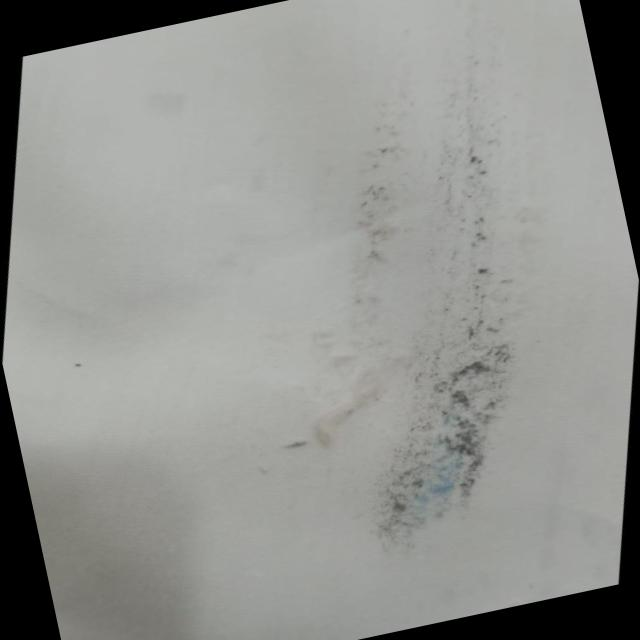stain: (183, 24, 640, 592)
